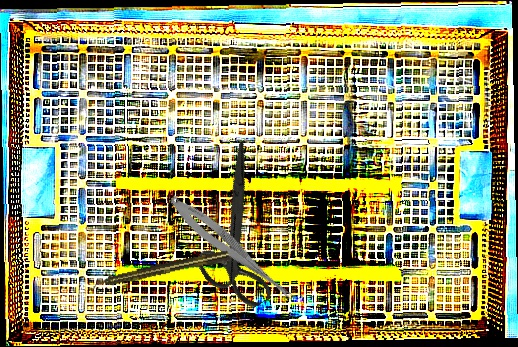Handpiece: (89, 248, 232, 292)
Iris Scissors: (154, 140, 321, 322)
Micro Scissor: (164, 191, 304, 307)
